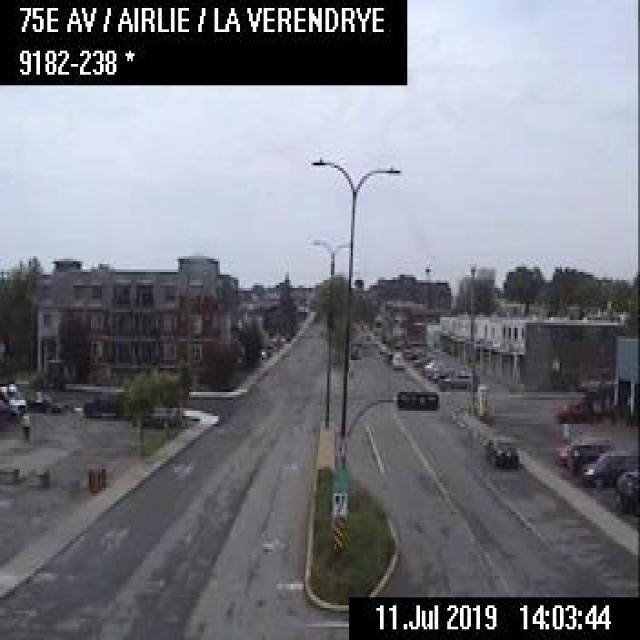construction: (99, 464, 104, 487), (92, 468, 97, 490), (87, 467, 92, 489)
pedestrian: (18, 407, 31, 442)
vehicle: (580, 446, 638, 488), (565, 438, 613, 473), (484, 435, 522, 469), (82, 393, 123, 416), (616, 468, 638, 510), (143, 402, 179, 425), (438, 368, 477, 388), (554, 402, 590, 420), (552, 438, 575, 463), (390, 352, 404, 369), (384, 350, 394, 360)
